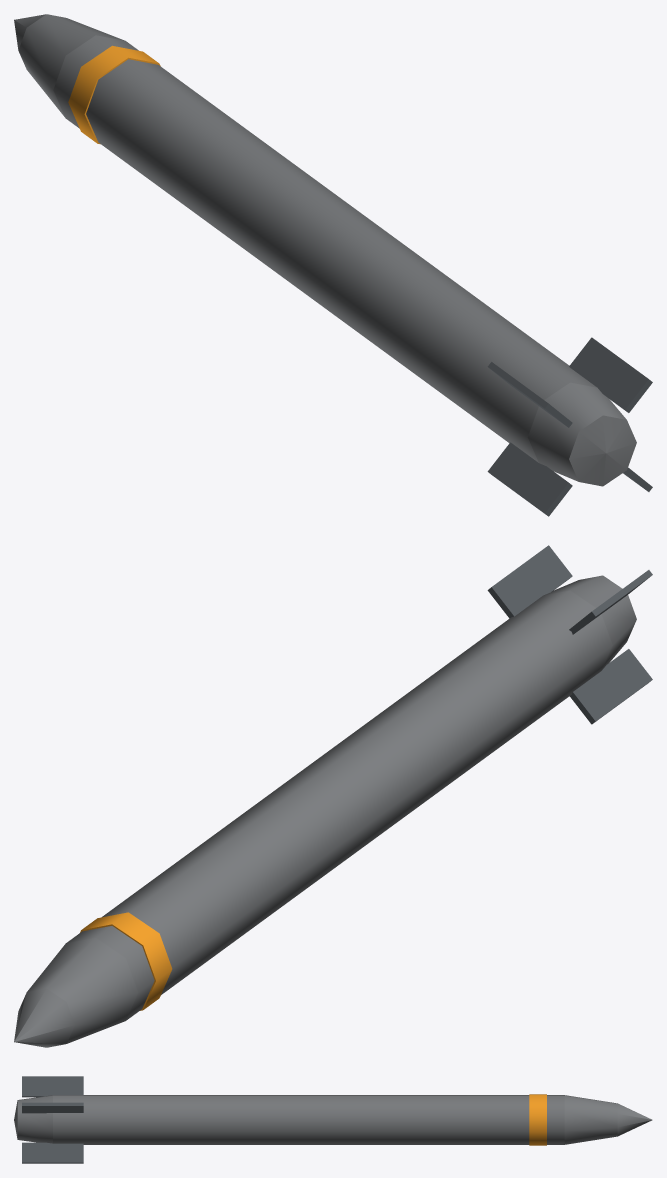
Rendered from wr_missile_1.obj.
The picture shows the model from 3 angles, top to bottom: view 1: azimuth 30°, elevation 25°; view 2: azimuth 150°, elevation 25°; view 3: azimuth 270°, elevation 25°; orthographic projection. The views are drawn at different scales.
Visible parts, largest first — view 1: wr_missile_1; view 2: wr_missile_1; view 3: wr_missile_1.
Part boxes in pixels (box(x1,y1,x2,y2)): wr_missile_1: box(14, 14, 652, 516); wr_missile_1: box(14, 545, 652, 1047); wr_missile_1: box(14, 1076, 652, 1163).
Bounding box in the file's own units: 0.3818 × 0.3818 × 3.62.
